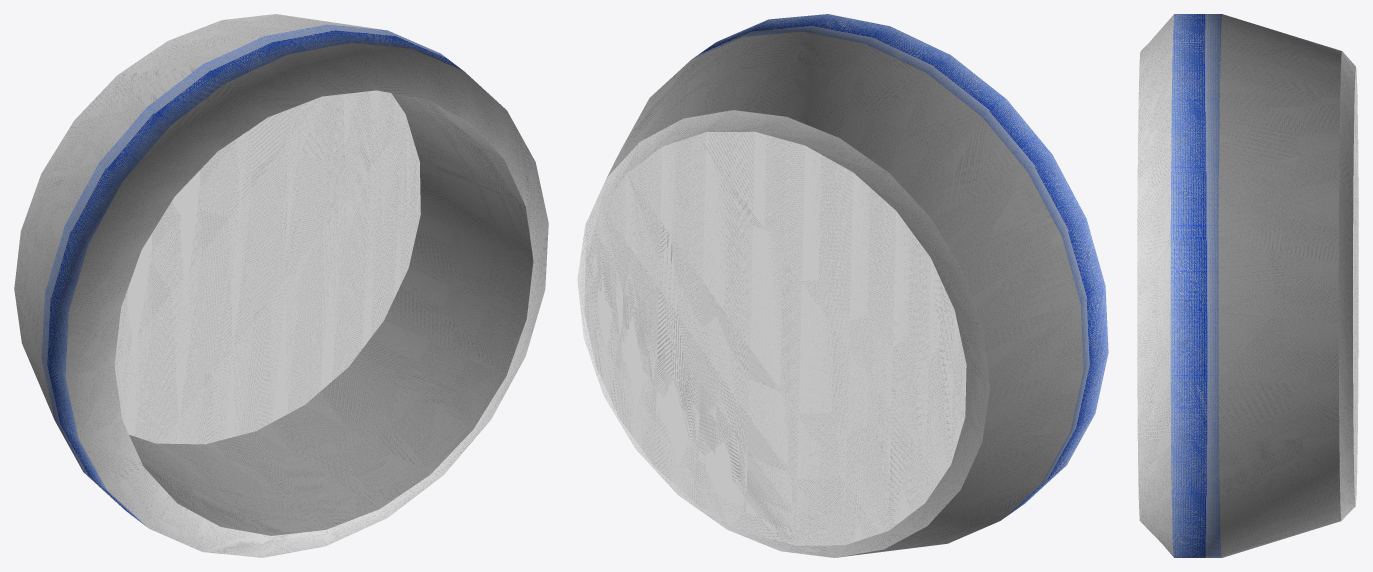
The model's file is model_align.obj.
3 renders of one model, left to right at view 1: azimuth 30°, elevation 25°; view 2: azimuth 150°, elevation 25°; view 3: azimuth 270°, elevation 25°, orthographic.
Visible parts, largest first — view 1: mesh1_mesh1-geometry; view 2: mesh1_mesh1-geometry; view 3: mesh1_mesh1-geometry.
Part boxes in pixels (bbox=[...]): mesh1_mesh1-geometry: bbox=[14, 14, 548, 557]; mesh1_mesh1-geometry: bbox=[577, 14, 1108, 557]; mesh1_mesh1-geometry: bbox=[1137, 14, 1358, 557].
Size of the model in its own units: 0.1618 by 0.1617 by 0.0657.
3 materials, 1 textured.
